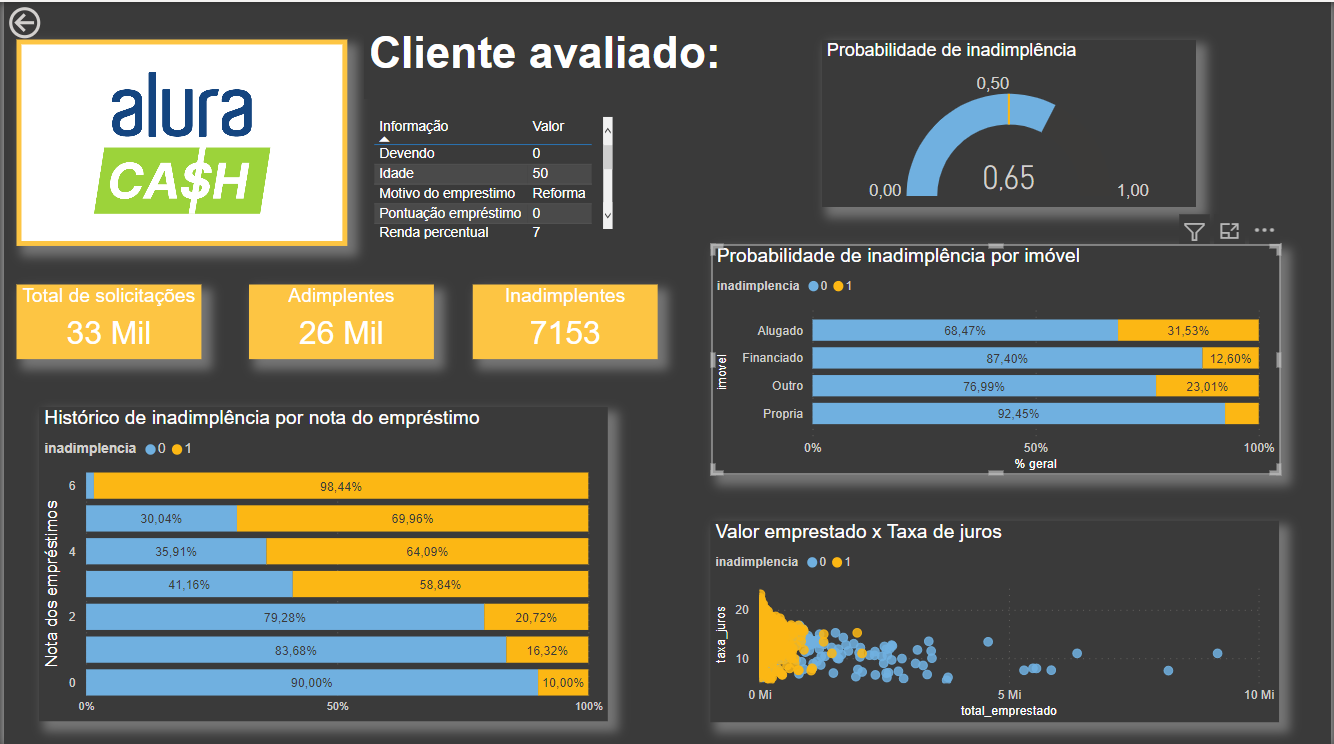

The dashboard page shown, as its layout file describes it:
{"tool":"powerbi","page":{"name":"Página 1","canvas":[1280,720],"ordinal":0},"visuals":[{"type":"tableEx","fields":{"Values":["Tabela de parâmetros.Informação","Tabela de parâmetros.Valor"]},"box":[350.8,106.3,240.8,127.1],"z":0},{"type":"actionButton","box":[0,0,100,40],"z":1000},{"type":"gauge","title":"Probabilidade de inadimplência","fields":{"Y":["Sum(retorno.probability_1)"],"TargetValue":["Consulta_idade.Medida"]},"box":[788.5,36.7,361.8,161.4],"z":2000},{"type":"scatterChart","fields":{"Y":["Sheet1 (2).taxa_juros"],"Series":["Sheet1 (2).inadimplencia"],"X":["Sum(Sheet1 (2).total_emprestado)"]},"box":[680.9,500,548.9,194.4],"z":3000},{"type":"card","title":"Total de solicitações","fields":{"Values":["Consulta_idade.Total Registros"]},"box":[12.2,272.6,178.5,72.1],"z":4000},{"type":"hundredPercentStackedBarChart","fields":{"Category":["Sheet1 (2).imovel"],"Y":["Consulta_idade.% geral"],"Series":["Sheet1 (2).inadimplencia"]},"box":[682.1,233.5,548.9,222.5],"z":5000},{"type":"card","title":"Adimplentes","fields":{"Values":["Consulta_idade.Inadimplente"]},"box":[235.9,272.6,178.5,72.1],"z":6000},{"type":"card","title":"Inadimplentes","fields":{"Values":["Consulta_idade.Inadimplentes"]},"box":[452.3,272.6,178.5,72.1],"z":7000},{"type":"hundredPercentStackedBarChart","fields":{"Y":["Consulta_idade.% geral"],"Series":["Sheet1 (2).inadimplencia"],"Category":["Sheet1 (2).nota_emprestimo"]},"box":[34.2,391.2,548.9,303.2],"z":7001},{"type":"image","box":[12.2,36.7,319,199.3],"z":7002},{"type":"textbox","box":[347.2,19.6,366.7,74.6],"z":7003}]}

Visuals, with their boxes in screenshot pixels (x1, y1, x2, y2), scaled from the page's 1280x720 canvas onto the 1334x744 screenshot:
tableEx - Tabela de parâmetros.Informação x Tabela de parâmetros.Valor: [x1=366, y1=110, x2=617, y2=241]
actionButton: [x1=0, y1=0, x2=104, y2=41]
"Probabilidade de inadimplência" gauge: [x1=822, y1=38, x2=1199, y2=205]
scatterChart - Sheet1 (2).taxa_juros x Sheet1 (2).inadimplencia: [x1=710, y1=517, x2=1282, y2=718]
"Total de solicitações" card: [x1=13, y1=282, x2=199, y2=356]
hundredPercentStackedBarChart - Sheet1 (2).imovel x Consulta_idade.% geral: [x1=711, y1=241, x2=1283, y2=471]
"Adimplentes" card: [x1=246, y1=282, x2=432, y2=356]
"Inadimplentes" card: [x1=471, y1=282, x2=657, y2=356]
hundredPercentStackedBarChart - Consulta_idade.% geral x Sheet1 (2).inadimplencia: [x1=36, y1=404, x2=608, y2=718]
image: [x1=13, y1=38, x2=345, y2=244]
textbox: [x1=362, y1=20, x2=744, y2=97]
